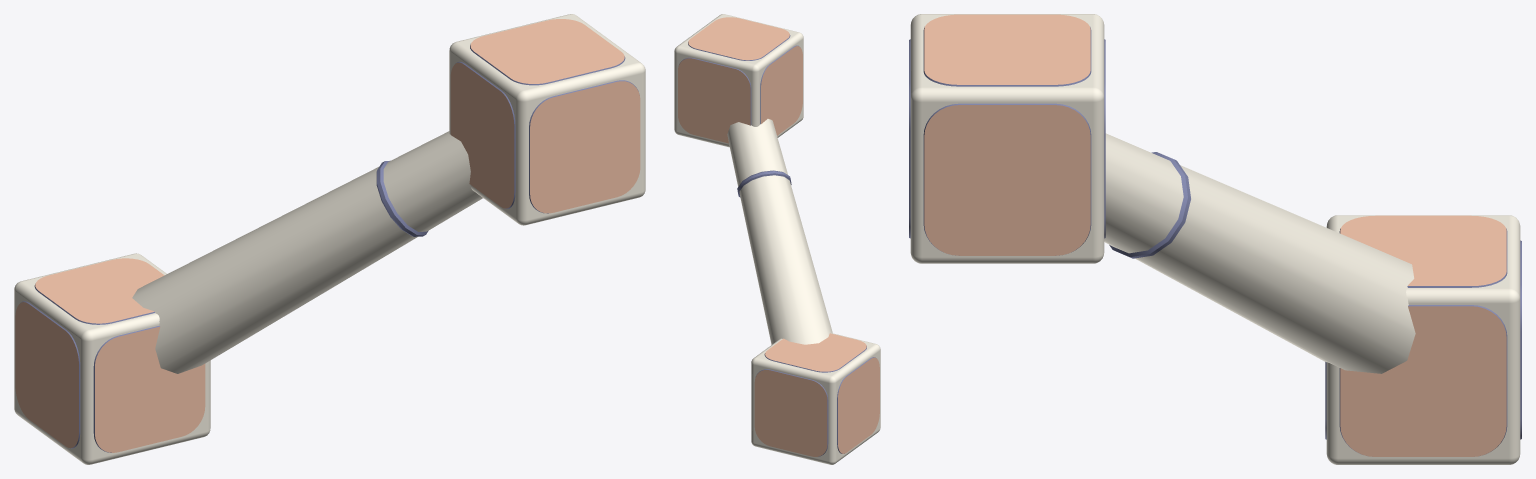
Rendered from R4C_STRUT_DIAG_3D.fbx.
The picture shows the model from 3 angles, left to right: view 1: azimuth 30°, elevation 25°; view 2: azimuth 150°, elevation 25°; view 3: azimuth 270°, elevation 25°; orthographic projection. The views are drawn at different scales.
Parts seen in each view (by area): view 1: R4C_STRUT_DIAG_3D; view 2: R4C_STRUT_DIAG_3D; view 3: R4C_STRUT_DIAG_3D.
Boxes of the visible parts, left/top/right/bottom form: R4C_STRUT_DIAG_3D: left=14, top=14, right=645, bottom=464; R4C_STRUT_DIAG_3D: left=674, top=14, right=880, bottom=464; R4C_STRUT_DIAG_3D: left=909, top=14, right=1521, bottom=464.
Bounding box in the file's own units: 1.62 × 1.62 × 1.62.
